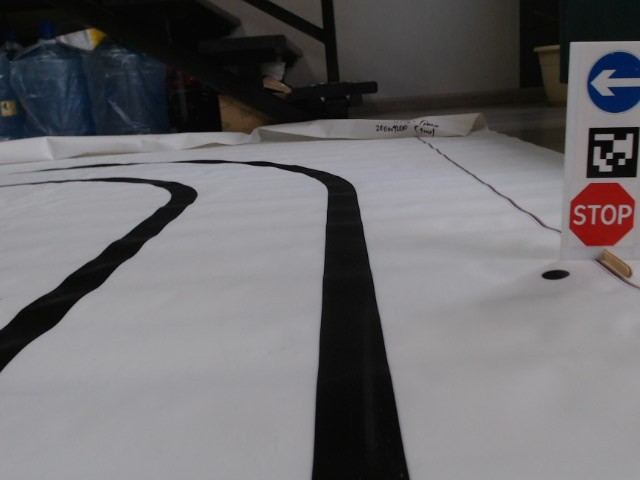Stop: (569, 181, 636, 248)
